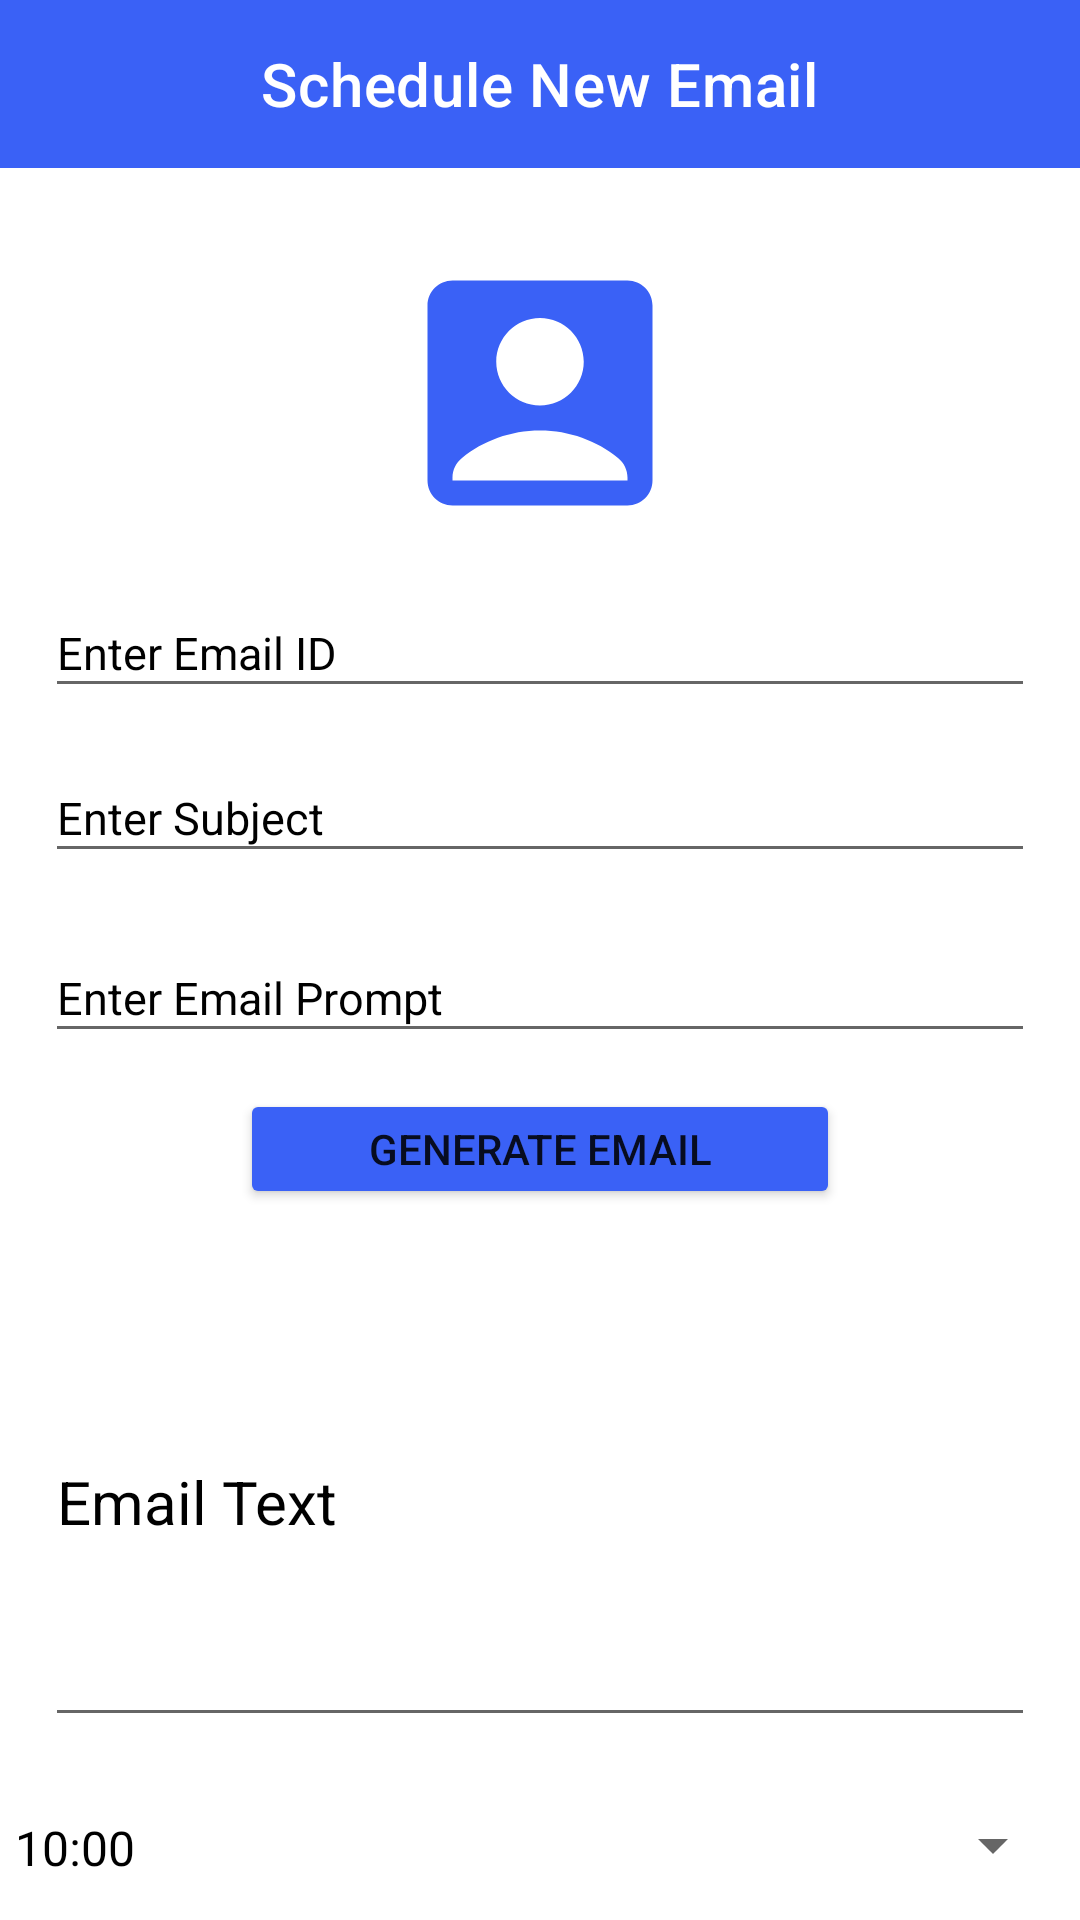

Icon click points for this 1080×1920 phone screenshot, format point (x, y):
account box: point (540, 393)
